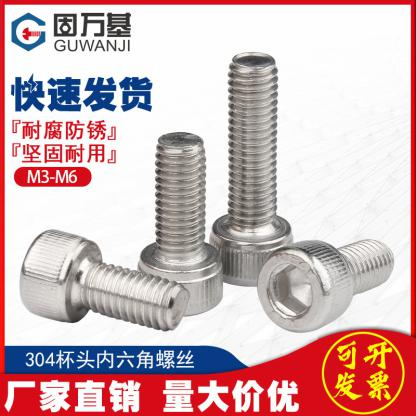FOD: (207, 47, 295, 288), (133, 129, 227, 319), (17, 230, 188, 331), (256, 236, 395, 332)
